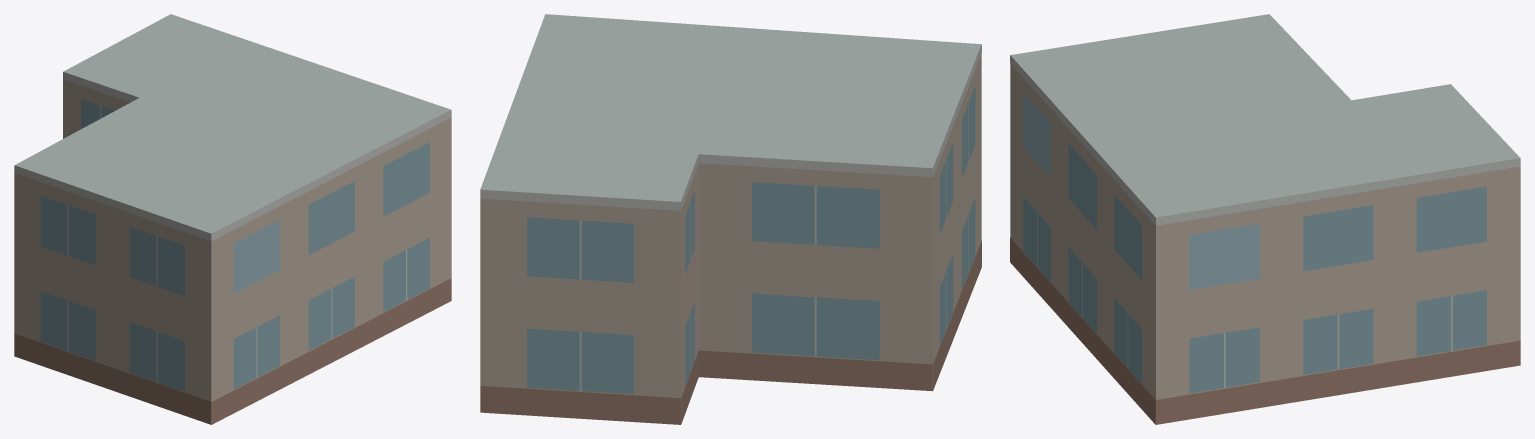
Rendered from survey-upis-32900769.glb.
3 views of the same model, side by side, from view 1: azimuth 30°, elevation 25°; view 2: azimuth 150°, elevation 25°; view 3: azimuth 270°, elevation 25° (orthographic). The views are drawn at different scales.
Visible parts, largest first — view 1: survey-upis-32900769.tmp; view 2: survey-upis-32900769.tmp; view 3: survey-upis-32900769.tmp.
Boxes of the visible parts, box(x1,y1,x2,y2) form: survey-upis-32900769.tmp: box(14, 14, 451, 424); survey-upis-32900769.tmp: box(480, 14, 981, 424); survey-upis-32900769.tmp: box(1010, 14, 1520, 424).
Bounding box in the file's own units: 12.86 × 6.1 × 13.63.
